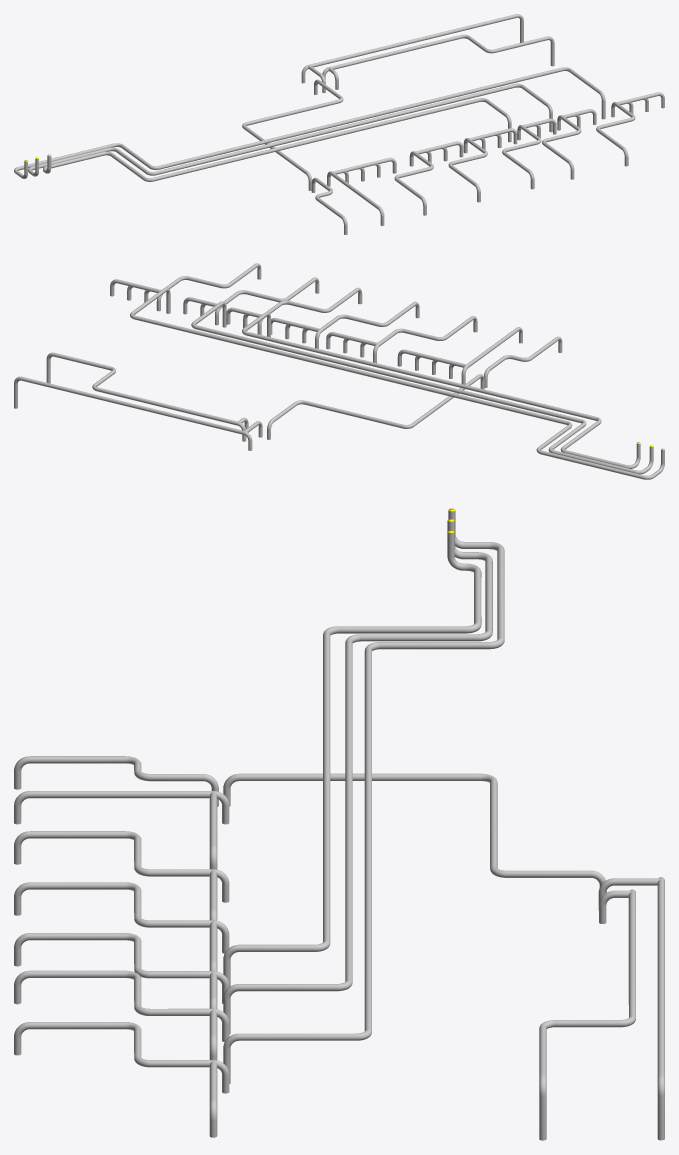
Rendered from sm_electrical_low_power_path.glb.
3 views of the same model, one above another, from view 1: azimuth 30°, elevation 25°; view 2: azimuth 150°, elevation 25°; view 3: azimuth 270°, elevation 25° (orthographic). The views are drawn at different scales.
Visible parts, largest first — view 1: sm_electrical_low_power_path; view 2: sm_electrical_low_power_path; view 3: sm_electrical_low_power_path.
Part boxes in pixels (left/top/right/bottom): sm_electrical_low_power_path: left=14, top=14, right=664, bottom=234; sm_electrical_low_power_path: left=14, top=263, right=664, bottom=479; sm_electrical_low_power_path: left=14, top=508, right=664, bottom=1140.
Bounding box in the file's own units: 30.12 × 2.79 × 15.13.
Materials: 2 (1 with a texture image).
